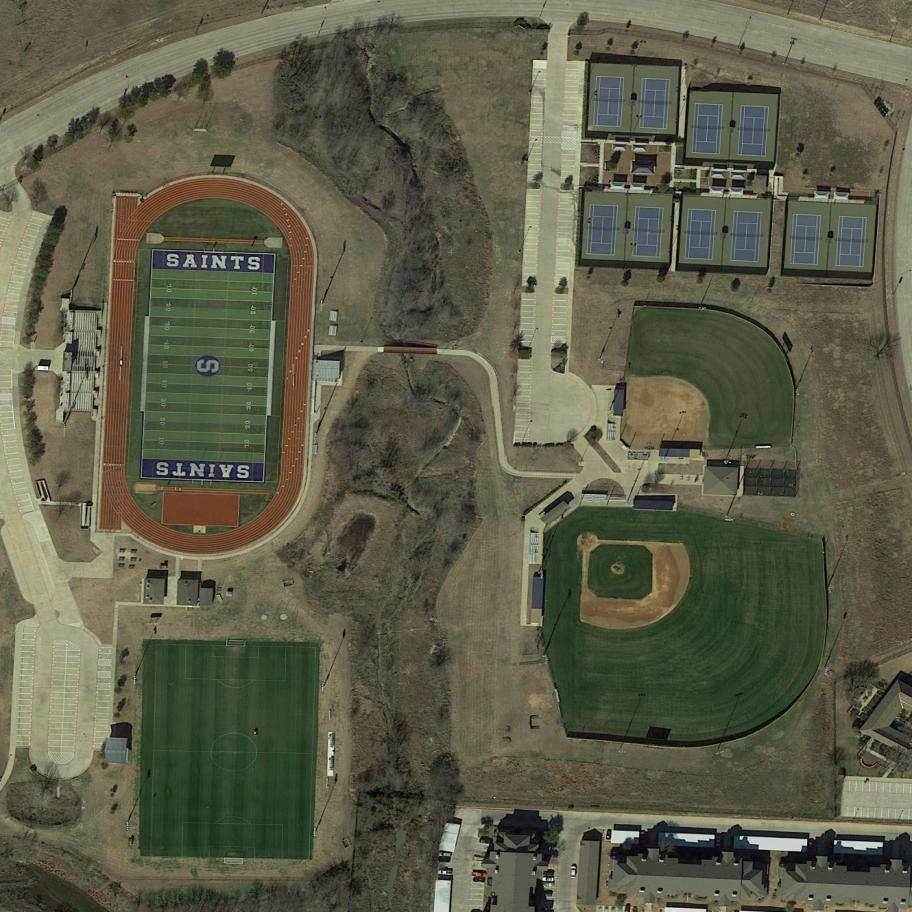small-vehicle: (807, 841, 815, 853), (640, 832, 647, 845), (571, 866, 577, 879), (542, 877, 555, 883), (473, 877, 486, 883), (472, 872, 487, 877), (438, 870, 453, 875), (544, 854, 558, 859), (606, 829, 612, 840), (439, 852, 452, 857), (438, 857, 451, 862), (829, 844, 835, 854), (542, 871, 554, 876), (716, 837, 721, 846), (540, 893, 551, 897)
